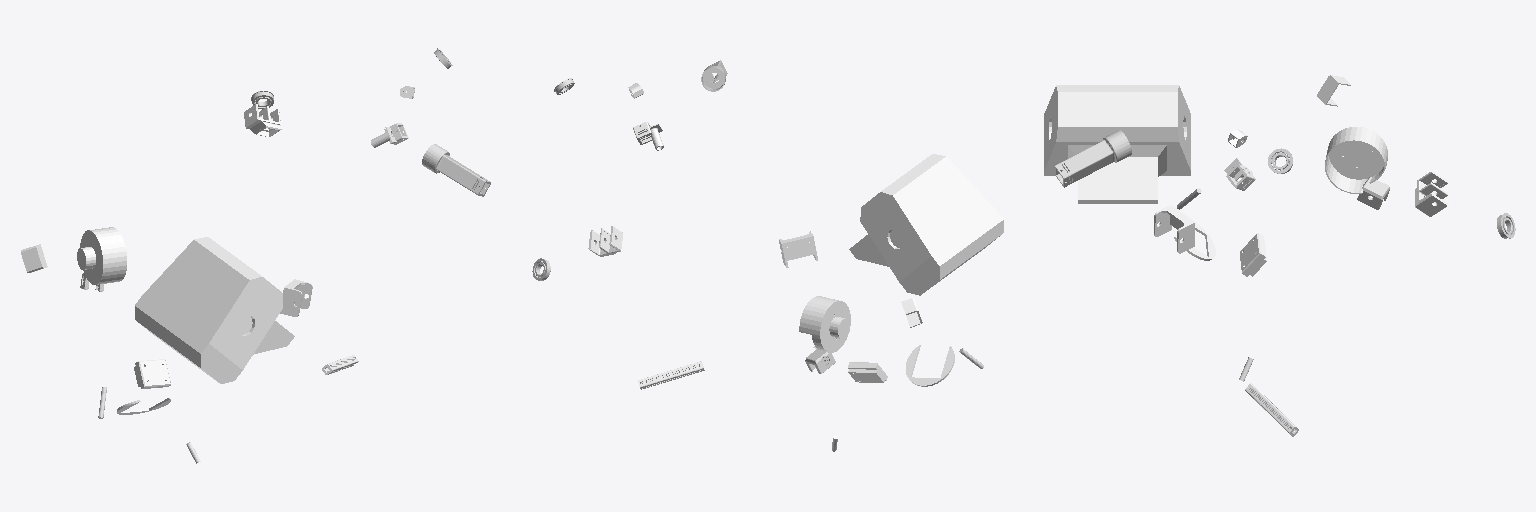
robot.urdf — dual_arm_wo_wrist:
<robot
  name="dual_arm_wo_wrist">
  <link
    name="base_link">
    <inertial>
      <origin
        xyz="-0.0746188127206767 5.55111512312578E-17 0.0854799809858156"
        rpy="0 0 0" />
      <mass
        value="81.613834759363" />
      <inertia
        ixx="0"
        ixy="0"
        ixz="0"
        iyy="0"
        iyz="0"
        izz="0" />
    </inertial>
    <visual>
      <origin
        xyz="0 0 0"
        rpy="0 0 0" />
      <geometry>
        <mesh
          filename="package://dual_arm_wo_wrist/meshes/base_link.STL" />
      </geometry>
      <material
        name="">
        <color
          rgba="1 1 1 1" />
      </material>
    </visual>
    <collision>
      <origin
        xyz="0 0 0"
        rpy="0 0 0" />
      <geometry>
        <mesh
          filename="package://dual_arm_wo_wrist/meshes/base_link.STL" />
      </geometry>
    </collision>
  </link>
  <link
    name="L1_1">
    <inertial>
      <origin
        xyz="0.00330190025294513 0.0010848045406151 -0.0196609281088113"
        rpy="0 0 0" />
      <mass
        value="0.323347358064715" />
      <inertia
        ixx="9.68253685624809E-05"
        ixy="-1.59383421010915E-06"
        ixz="1.69151536635019E-05"
        iyy="0.000101153002835933"
        iyz="5.55729552349029E-06"
        izz="5.37490914918669E-06" />
    </inertial>
    <visual>
      <origin
        xyz="0 0 0"
        rpy="0 0 0" />
      <geometry>
        <mesh
          filename="package://dual_arm_wo_wrist/meshes/L1_1.STL" />
      </geometry>
      <material
        name="">
        <color
          rgba="1 1 1 1" />
      </material>
    </visual>
    <collision>
      <origin
        xyz="0 0 0"
        rpy="0 0 0" />
      <geometry>
        <mesh
          filename="package://dual_arm_wo_wrist/meshes/L1_1.STL" />
      </geometry>
    </collision>
  </link>
  <joint
    name="J_11"
    type="revolute">
    <origin
      xyz="-0.0744445637977387 -0.152871273073738 0.110435575211296"
      rpy="1.70908117298887 0.775712981728982 -2.94539473140516" />
    <parent
      link="base_link" />
    <child
      link="L1_1" />
    <axis
      xyz="0 0 -1" />
  </joint>
  <link
    name="L1_2">
    <inertial>
      <origin
        xyz="-0.0595754729218855 -7.04107574474311E-05 0.000476396292132808"
        rpy="0 0 0" />
      <mass
        value="0.227601605228897" />
      <inertia
        ixx="1.67315392108185E-06"
        ixy="-7.705302782939E-07"
        ixz="9.78556384683632E-06"
        iyy="0.000751270236328134"
        iyz="1.46402067480785E-08"
        izz="0.000750888308838527" />
    </inertial>
    <visual>
      <origin
        xyz="0 0 0"
        rpy="0 0 0" />
      <geometry>
        <mesh
          filename="package://dual_arm_wo_wrist/meshes/L1_2.STL" />
      </geometry>
      <material
        name="">
        <color
          rgba="0.898039215686275 0.898039215686275 0.898039215686275 1" />
      </material>
    </visual>
    <collision>
      <origin
        xyz="0 0 0"
        rpy="0 0 0" />
      <geometry>
        <mesh
          filename="package://dual_arm_wo_wrist/meshes/L1_2.STL" />
      </geometry>
    </collision>
  </link>
  <joint
    name="J_12"
    type="revolute">
    <origin
      xyz="0 0 -0.0635"
      rpy="1.5707963267949 -0.380374098489847 0.317429885556193" />
    <parent
      link="L1_1" />
    <child
      link="L1_2" />
    <axis
      xyz="-0.371267855487522 -0.928525809809128 0" />
  </joint>
  <link
    name="L1_3">
    <inertial>
      <origin
        xyz="0.00293314151063553 1.81490356632175E-08 0.0290133398400998"
        rpy="0 0 0" />
      <mass
        value="0.11831755919013" />
      <inertia
        ixx="9.92481356634434E-05"
        ixy="-1.51552648502854E-11"
        ixz="-3.13085577093194E-06"
        iyy="0.000106164353672326"
        iyz="-3.89010332648659E-11"
        izz="6.91621800897355E-06" />
    </inertial>
    <visual>
      <origin
        xyz="0 0 0"
        rpy="0 0 0" />
      <geometry>
        <mesh
          filename="package://dual_arm_wo_wrist/meshes/L1_3.STL" />
      </geometry>
      <material
        name="">
        <color
          rgba="0.898039215686275 0.917647058823529 0.929411764705882 1" />
      </material>
    </visual>
    <collision>
      <origin
        xyz="0 0 0"
        rpy="0 0 0" />
      <geometry>
        <mesh
          filename="package://dual_arm_wo_wrist/meshes/L1_3.STL" />
      </geometry>
    </collision>
  </link>
  <joint
    name="J_13"
    type="revolute">
    <origin
      xyz="-0.178688999999997 -0.000126999999998864 0"
      rpy="-1.57079632679487 1.33226762955019E-15 1.5707963267949" />
    <parent
      link="L1_2" />
    <child
      link="L1_3" />
    <axis
      xyz="-0.928525809809128 0 0.371267855487521" />
  </joint>
  <link
    name="L1_4">
    <inertial>
      <origin
        xyz="1.07414077632484E-14 -0.061997236186389 -0.000687116523836878"
        rpy="0 0 0" />
      <mass
        value="0.0525484699752677" />
      <inertia
        ixx="7.42549840447539E-05"
        ixy="1.26982679589832E-17"
        ixz="-3.84552958053452E-19"
        iyy="2.04469292095451E-07"
        iyz="2.23852937258278E-06"
        izz="7.40505147526585E-05" />
    </inertial>
    <visual>
      <origin
        xyz="0 0 0"
        rpy="0 0 0" />
      <geometry>
        <mesh
          filename="package://dual_arm_wo_wrist/meshes/L1_4.STL" />
      </geometry>
      <material
        name="">
        <color
          rgba="1 1 1 1" />
      </material>
    </visual>
    <collision>
      <origin
        xyz="0 0 0"
        rpy="0 0 0" />
      <geometry>
        <mesh
          filename="package://dual_arm_wo_wrist/meshes/L1_4.STL" />
      </geometry>
    </collision>
  </link>
  <joint
    name="J_14"
    type="revolute">
    <origin
      xyz="0.0266699999999994 0 0.0609600000000023"
      rpy="-1.5707963267949 0.697503960589116 -1.5707963267949" />
    <parent
      link="L1_3" />
    <child
      link="L1_4" />
    <axis
      xyz="-0.238467796238905 -0.284557429485268 -0.928525809809128" />
  </joint>
  <link
    name="L2_1">
    <inertial>
      <origin
        xyz="0.00148034159698374 0.000384598576449902 -0.0196609281024731"
        rpy="0 0 0" />
      <mass
        value="0.323347358064715" />
      <inertia
        ixx="0.000100009530730105"
        ixy="2.48622361406855E-06"
        ixz="9.91585577546079E-06"
        iyy="9.79688404639174E-05"
        iyz="-1.47878923001656E-05"
        izz="5.37490913403388E-06" />
    </inertial>
    <visual>
      <origin
        xyz="0 0 0"
        rpy="0 0 0" />
      <geometry>
        <mesh
          filename="package://dual_arm_wo_wrist/meshes/L2_1.STL" />
      </geometry>
      <material
        name="">
        <color
          rgba="1 1 1 1" />
      </material>
    </visual>
    <collision>
      <origin
        xyz="0 0 0"
        rpy="0 0 0" />
      <geometry>
        <mesh
          filename="package://dual_arm_wo_wrist/meshes/L2_1.STL" />
      </geometry>
    </collision>
  </link>
  <joint
    name="J_21"
    type="revolute">
    <origin
      xyz="-0.0770764780846112 0.152934634404308 0.112429906455408"
      rpy="-1.70908117298887 0.775712981728982 2.94539473140516" />
    <parent
      link="base_link" />
    <child
      link="L2_1" />
    <axis
      xyz="0 0 1" />
  </joint>
  <link
    name="L2_2">
    <inertial>
      <origin
        xyz="-0.0595754434495103 7.03955788072808E-05 -0.000476404287072546"
        rpy="0 0 0" />
      <mass
        value="0.22760154392691" />
      <inertia
        ixx="1.67315853969856E-06"
        ixy="7.7041962317435E-07"
        ixz="-9.78561827297034E-06"
        iyy="0.000751269843750538"
        iyz="1.46357465462174E-08"
        izz="0.000750887910882762" />
    </inertial>
    <visual>
      <origin
        xyz="0 0 0"
        rpy="0 0 0" />
      <geometry>
        <mesh
          filename="package://dual_arm_wo_wrist/meshes/L2_2.STL" />
      </geometry>
      <material
        name="">
        <color
          rgba="0.898039215686275 0.898039215686275 0.898039215686275 1" />
      </material>
    </visual>
    <collision>
      <origin
        xyz="0 0 0"
        rpy="0 0 0" />
      <geometry>
        <mesh
          filename="package://dual_arm_wo_wrist/meshes/L2_2.STL" />
      </geometry>
    </collision>
  </link>
  <joint
    name="J_22"
    type="revolute">
    <origin
      xyz="-0.000455269948952688 0.00327124958639424 -0.0634999999999996"
      rpy="-1.5707963267949 -0.380374098489845 -0.980117794662899" />
    <parent
      link="L2_1" />
    <child
      link="L2_2" />
    <axis
      xyz="0.371267855487522 -0.928525809809128 0" />
  </joint>
  <link
    name="L2_3">
    <inertial>
      <origin
        xyz="0.00293314663648594 2.02260276305211E-08 0.0290133474503437"
        rpy="0 0 0" />
      <mass
        value="0.118317581697963" />
      <inertia
        ixx="9.92481609006769E-05"
        ixy="-1.68896581782303E-11"
        ixz="-3.13087023494145E-06"
        iyy="0.000106164386349057"
        iyz="-4.33529137147844E-11"
        izz="6.91622544849394E-06" />
    </inertial>
    <visual>
      <origin
        xyz="0 0 0"
        rpy="0 0 0" />
      <geometry>
        <mesh
          filename="package://dual_arm_wo_wrist/meshes/L2_3.STL" />
      </geometry>
      <material
        name="">
        <color
          rgba="1 1 1 1" />
      </material>
    </visual>
    <collision>
      <origin
        xyz="0 0 0"
        rpy="0 0 0" />
      <geometry>
        <mesh
          filename="package://dual_arm_wo_wrist/meshes/L2_3.STL" />
      </geometry>
    </collision>
  </link>
  <joint
    name="J_23"
    type="revolute">
    <origin
      xyz="-0.178688999999998 0.000126999999999489 0"
      rpy="1.57079632679492 -1.38777878078145E-15 -1.5707963267949" />
    <parent
      link="L2_2" />
    <child
      link="L2_3" />
    <axis
      xyz="0.928525809809128 0 -0.371267855487521" />
  </joint>
  <link
    name="L2_4">
    <inertial>
      <origin
        xyz="1.08801856413265E-14 -0.0619972361863879 -0.000687116523836656"
        rpy="0 0 0" />
      <mass
        value="0.052548469975267" />
      <inertia
        ixx="7.42549840447516E-05"
        ixy="1.26643601713135E-17"
        ixz="-3.86247023947961E-19"
        iyy="2.04469292095454E-07"
        iyz="2.23852937258277E-06"
        izz="7.40505147526561E-05" />
    </inertial>
    <visual>
      <origin
        xyz="0 0 0"
        rpy="0 0 0" />
      <geometry>
        <mesh
          filename="package://dual_arm_wo_wrist/meshes/L2_4.STL" />
      </geometry>
      <material
        name="">
        <color
          rgba="1 1 1 1" />
      </material>
    </visual>
    <collision>
      <origin
        xyz="0 0 0"
        rpy="0 0 0" />
      <geometry>
        <mesh
          filename="package://dual_arm_wo_wrist/meshes/L2_4.STL" />
      </geometry>
    </collision>
  </link>
  <joint
    name="J_24"
    type="revolute">
    <origin
      xyz="0.0266699999999995 0 0.0609600000000023"
      rpy="-1.5707963267949 0.697503960589116 -1.5707963267949" />
    <parent
      link="L2_3" />
    <child
      link="L2_4" />
    <axis
      xyz="0.238467796238905 0.284557429485269 0.928525809809128" />
  </joint>
</robot>

--- Render facts (derived) ---
The picture shows the robot from 3 angles, left to right: view 1: azimuth 30°, elevation 25°; view 2: azimuth 150°, elevation 25°; view 3: azimuth 270°, elevation 25°; orthographic projection.
Robot: dual_arm_wo_wrist — 9 links, 8 joints (8 revolute); root link base_link; default pose: every joint at zero.
Visible links, largest first — view 1: base_link, L2_1, L2_2, L2_3, L2_4; view 2: base_link, L2_1, L2_2, L2_3, L2_4; view 3: base_link, L2_1, L2_2, L2_3, L2_4.
Boxes of the visible links, x1,y1,x2,y2 form: base_link: (135,237,294,383); L2_1: (77,227,312,414); L2_2: (80,48,490,418); L2_3: (21,104,408,272); L2_4: (186,86,414,463); base_link: (849,154,1003,295); L2_1: (779,231,954,386); L2_2: (532,60,983,373); L2_3: (588,122,922,327); L2_4: (628,83,837,451); base_link: (1044,85,1190,203); L2_1: (1154,127,1387,276); L2_2: (1055,130,1515,238); L2_3: (1224,75,1448,216); L2_4: (1228,129,1298,436).
Bounding box of the posed robot: 1.07 × 0.9807 × 0.8554 m (x, y, z).
Meshes: 9 distinct files referenced, 5 mesh visuals loaded (5 binary STL); not drawn: 4 (reference not matched to a file when rendering).